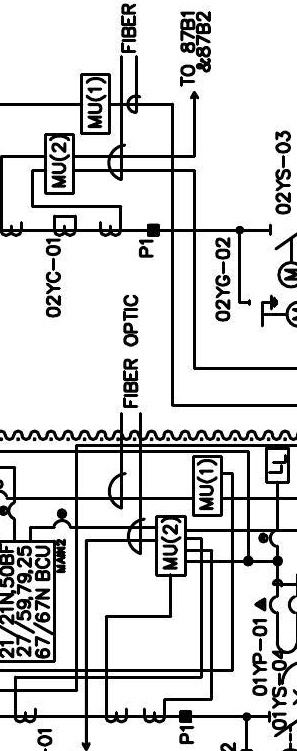LL: (265, 447, 291, 485)
MU: (155, 514, 188, 578), (43, 132, 76, 195), (192, 454, 224, 518), (80, 72, 112, 135)
